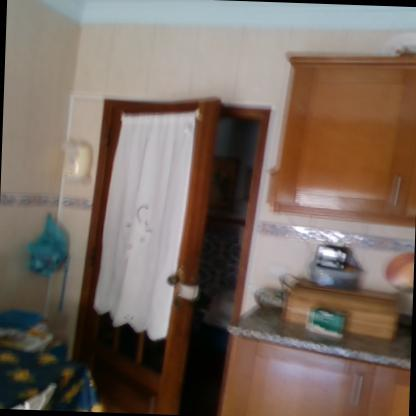semi: (76, 76, 280, 411)
